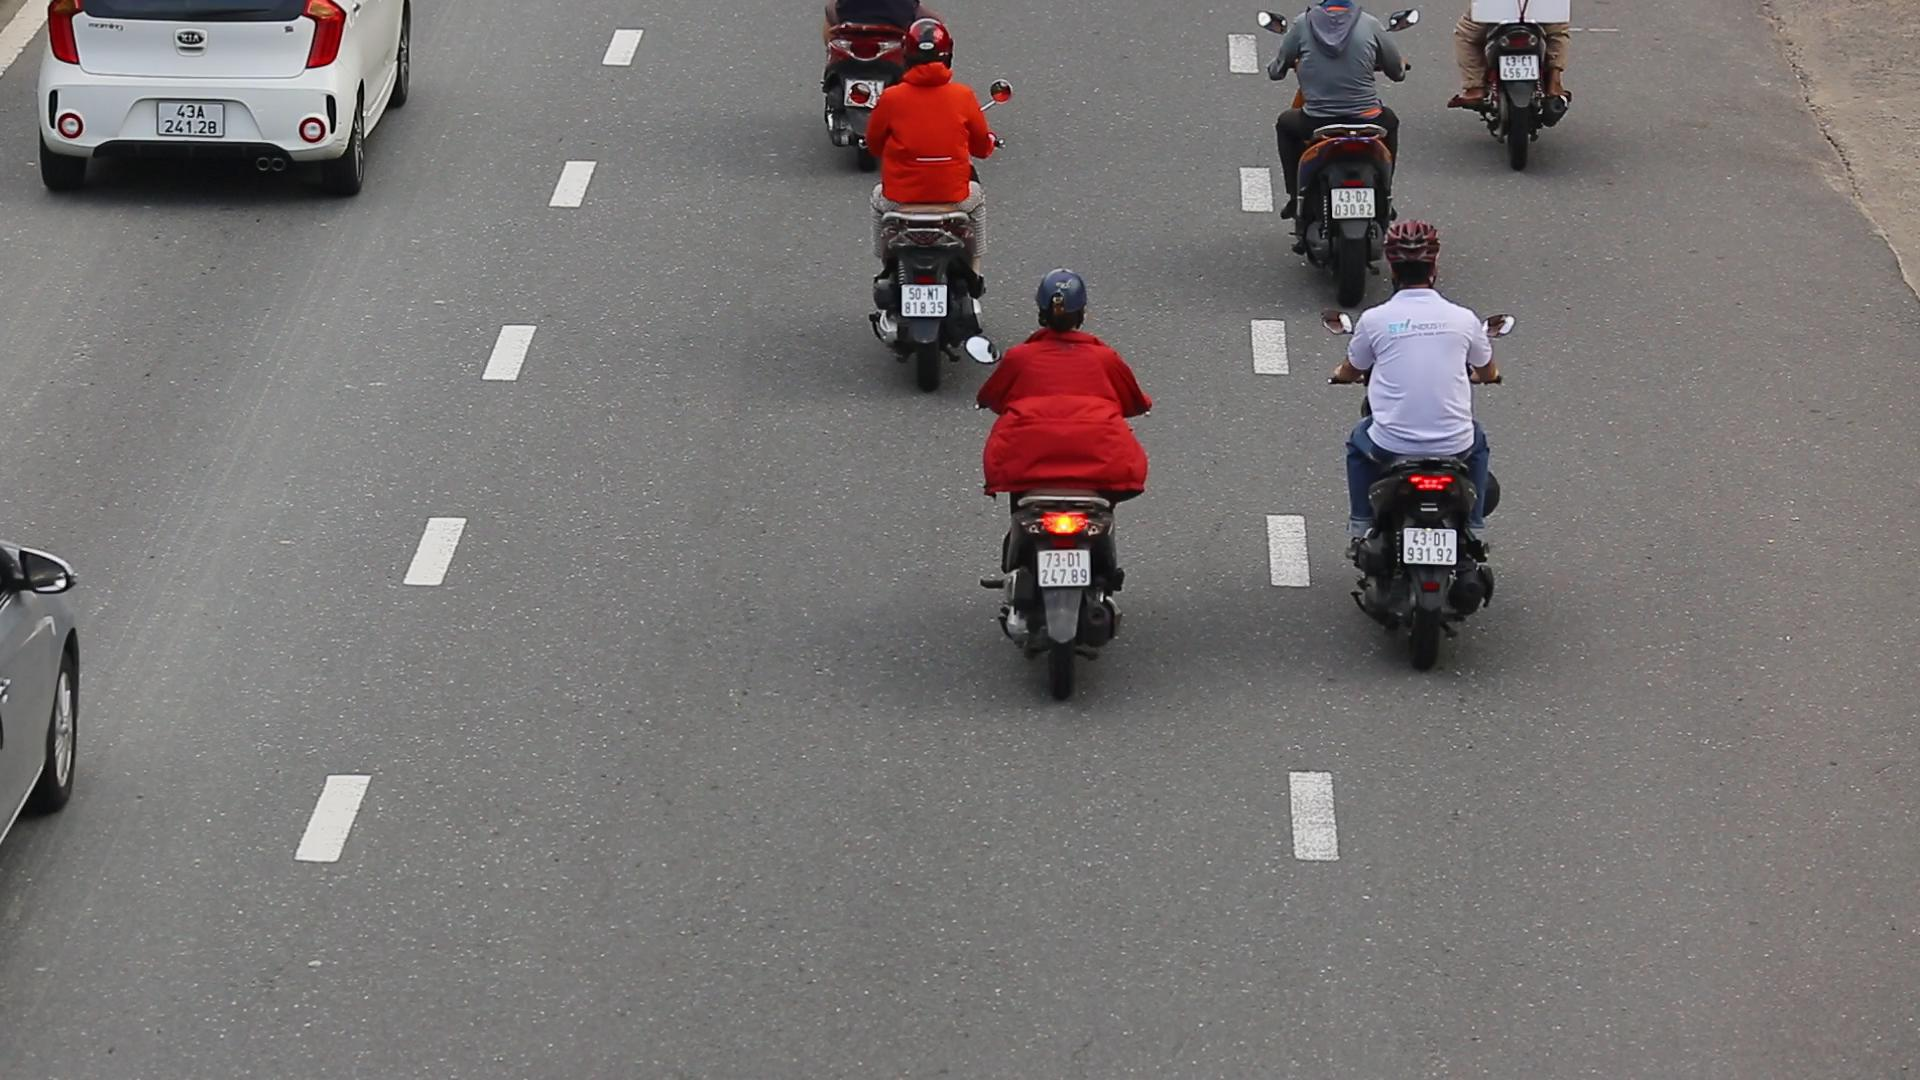motobike: (1328, 215, 1524, 680), (977, 248, 1160, 700), (864, 11, 997, 352)
